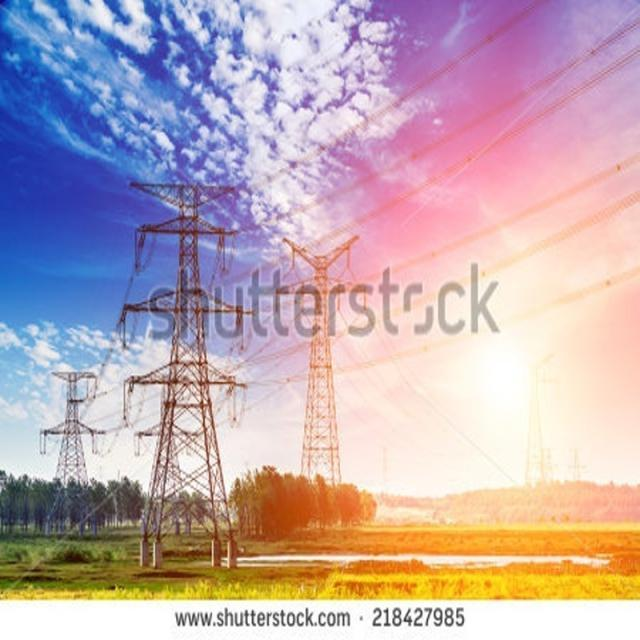non-critical vegetation: (121, 166, 242, 562), (274, 217, 354, 510), (40, 360, 103, 534)
